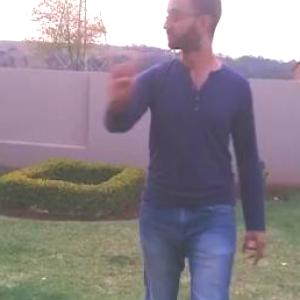takeoff-hand: (104, 40, 144, 100)
